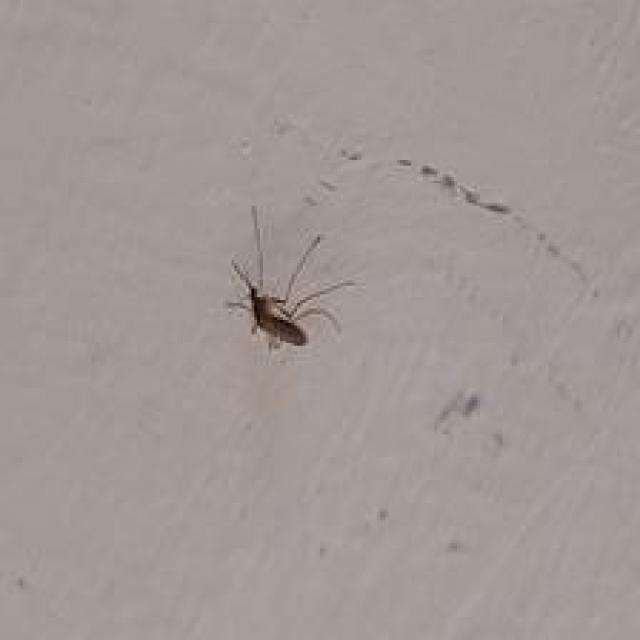Culex: (223, 203, 357, 354)
